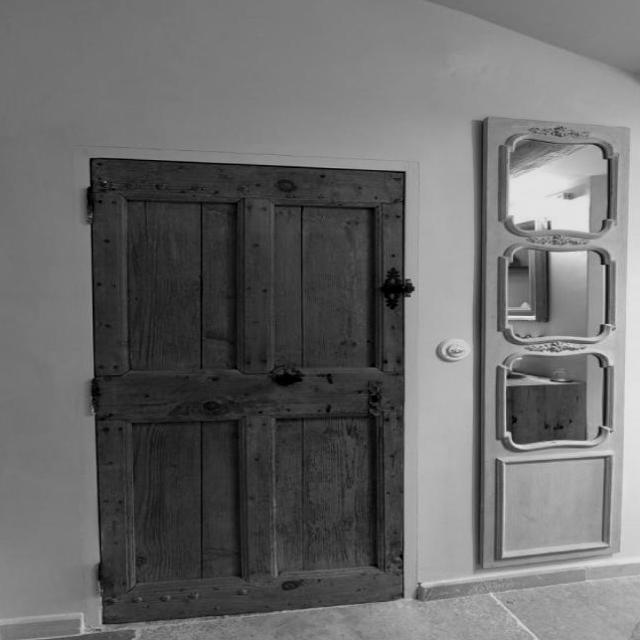door: (88, 156, 408, 624)
